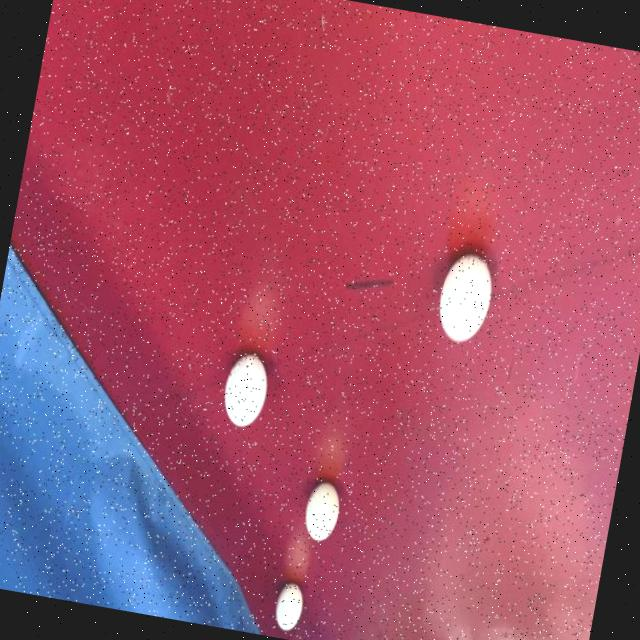ping-pong-ball: (428, 246, 498, 350), (214, 343, 274, 432), (298, 475, 344, 545), (268, 577, 308, 635)
